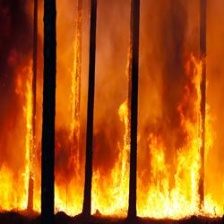fire: (4, 80, 223, 223)
